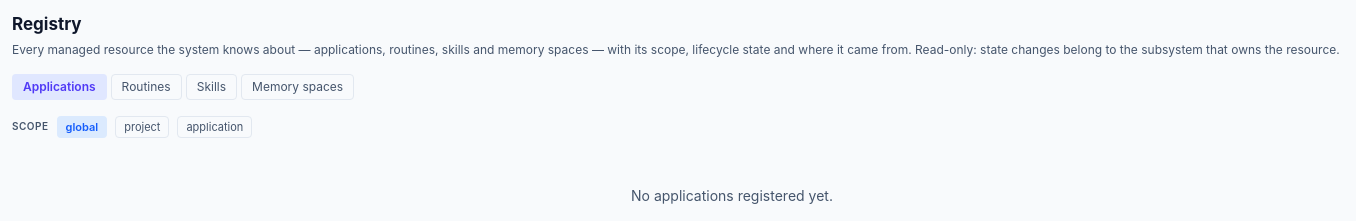
Test: resourceSettings › asks for the selected kind and scope, and reads an empty answer as "none yet"
What coordinates should you click on to do the following:
click the button with test id "resource-kind-routine"
I would click on:
 (146, 86)
Its box is [111,74,182,100].
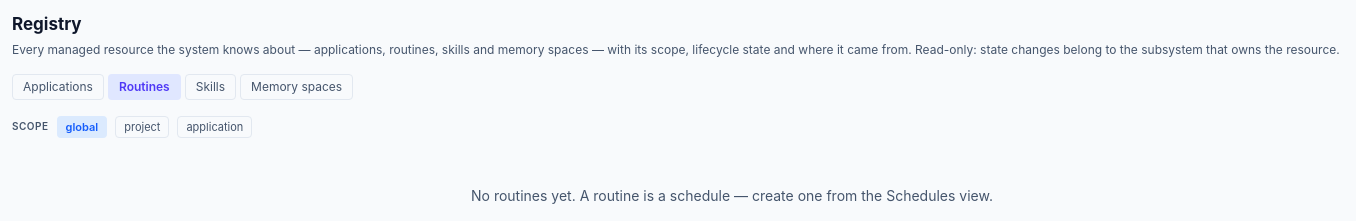
Check: the text with test id "resource-empty" shows "A routine is a schedule", box [471,187,993,204]
